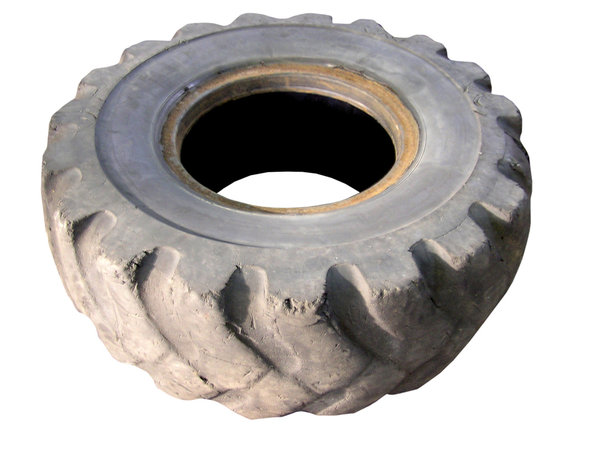tire: (41, 13, 531, 416)
